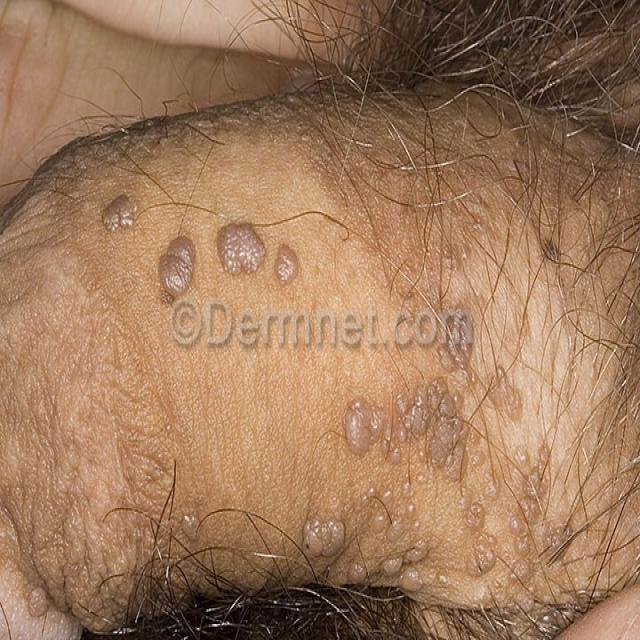Shingles: (295, 312, 569, 596), (213, 221, 266, 277), (156, 231, 193, 304), (98, 197, 138, 235), (273, 244, 302, 289)
